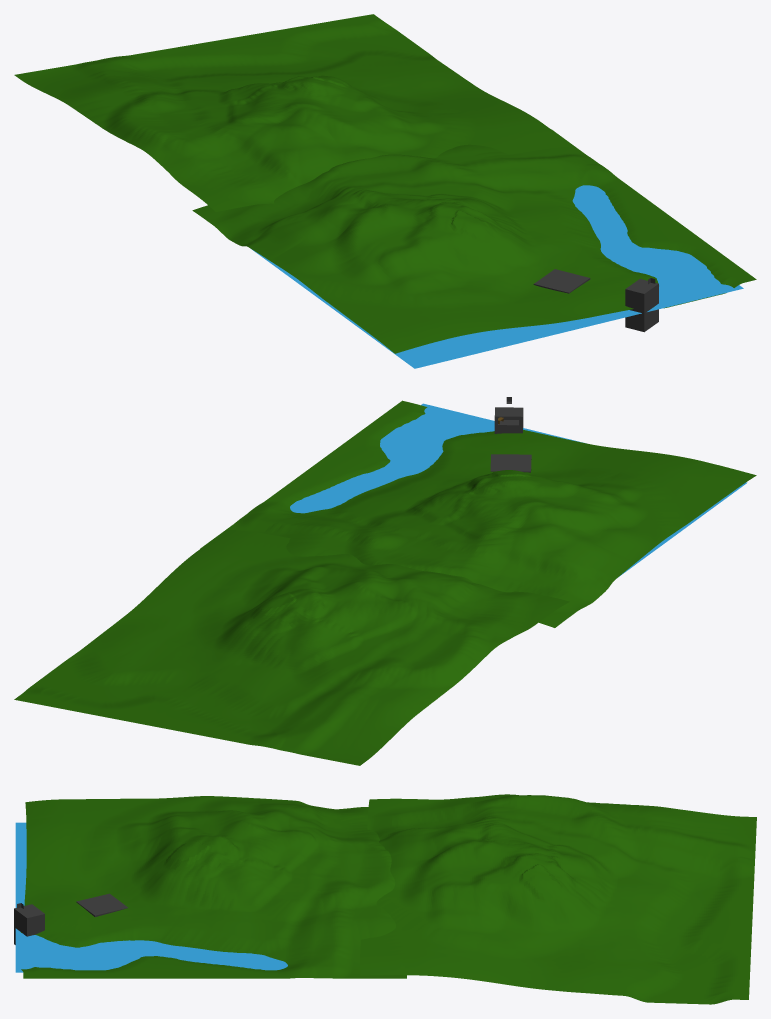
Rendered from construction.glb.
3 views of the same model, one above another, from view 1: azimuth 30°, elevation 25°; view 2: azimuth 150°, elevation 25°; view 3: azimuth 270°, elevation 25° (orthographic). The views are drawn at different scales.
Visible parts, largest first — view 1: Plane-col, Plane.002, Plane.001, Cube.001-col, Cube-col; view 2: Plane.002, Plane-col, Plane.001, Cube.001-col, Cube-col; view 3: Plane.002, Plane-col, Plane.001, Cube.001-col, Cube-col.
Part boxes in pixels (x1=…): Plane-col: x1=192, y1=129, x2=756, y2=353; Plane.002: x1=14, y1=14, x2=572, y2=211; Plane.001: x1=250, y1=185, x2=743, y2=368; Cube.001-col: x1=625, y1=278, x2=658, y2=332; Cube-col: x1=533, y1=269, x2=590, y2=293; Plane.002: x1=14, y1=529, x2=569, y2=765; Plane-col: x1=200, y1=400, x2=756, y2=627; Plane.001: x1=290, y1=403, x2=747, y2=577; Cube.001-col: x1=494, y1=397, x2=523, y2=433; Cube-col: x1=490, y1=454, x2=531, y2=472; Plane.002: x1=360, y1=794, x2=756, y2=1004; Plane-col: x1=21, y1=796, x2=406, y2=978; Plane.001: x1=15, y1=822, x2=287, y2=972; Cube.001-col: x1=14, y1=903, x2=44, y2=944; Cube-col: x1=76, y1=893, x2=127, y2=916.
Bounding box in the file's own units: 105 × 21.44 × 194.
